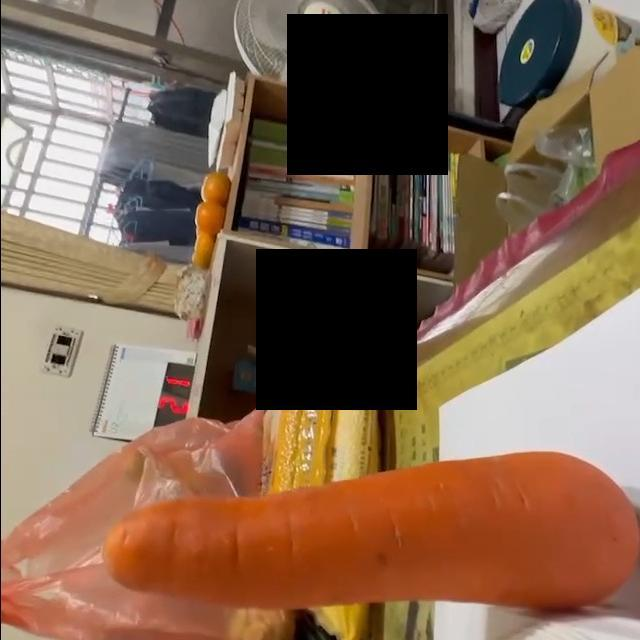carrot: (102, 448, 640, 611)
